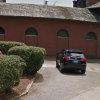Car: (52, 43, 92, 83)
